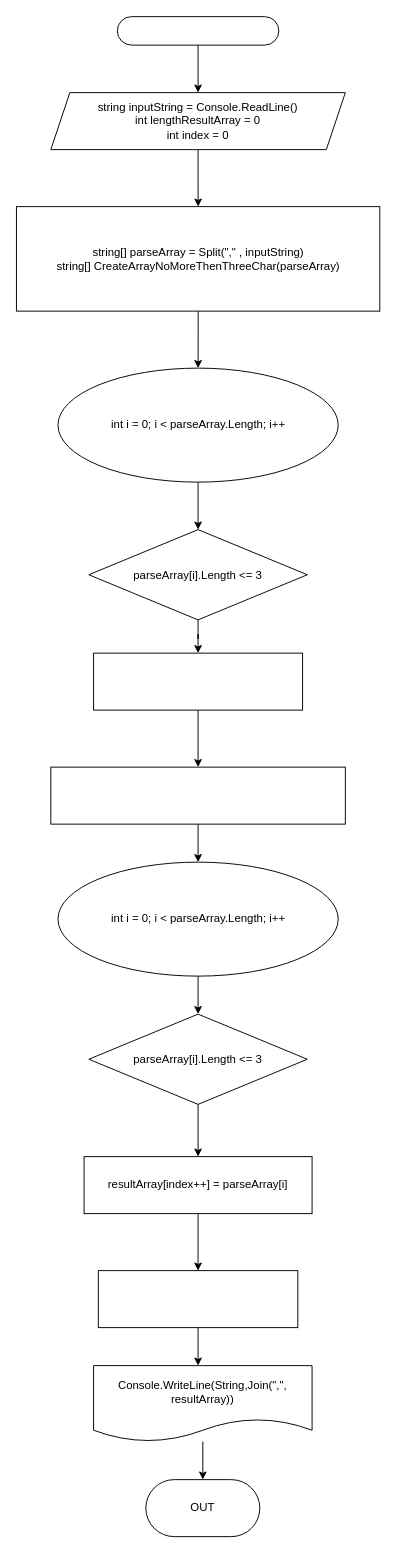
This 397x1553 diagram has some shape labels left out. The shapes that lost their labels are listed below. From the top down, each one's centre as x and y in pixels, then its label:
At point 197,30: "START".
At point 198,681: "lengthResultArray++".
At point 197,795: "string[] resultArray = new string[lengthResultArray]".
At point 197,1299: "return resultArray".
